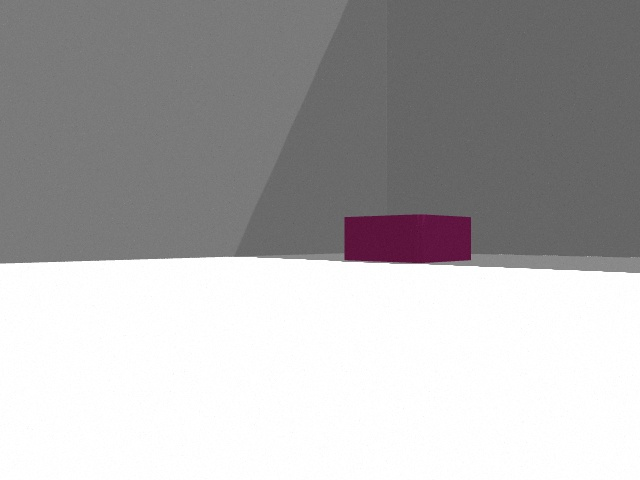red_drop_zone: (344, 214, 471, 263)
